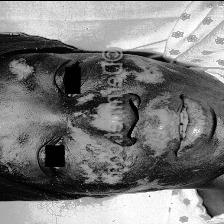Unclassified: (153, 97, 167, 135), (86, 142, 106, 158)
